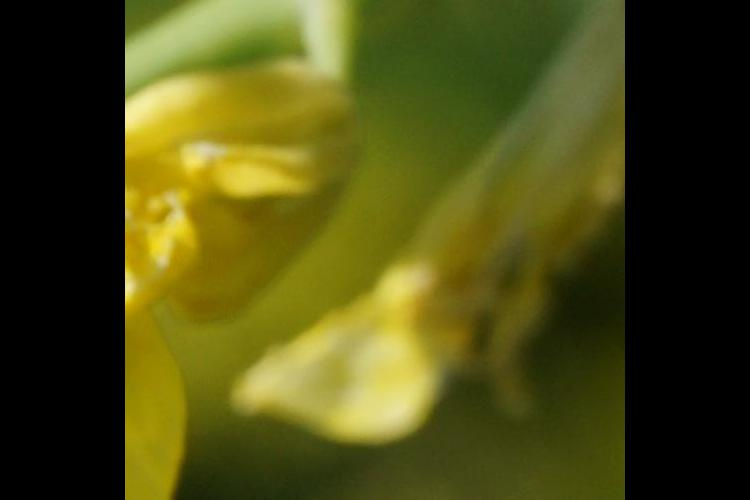yellow: (291, 160, 582, 470), (141, 36, 340, 485)
